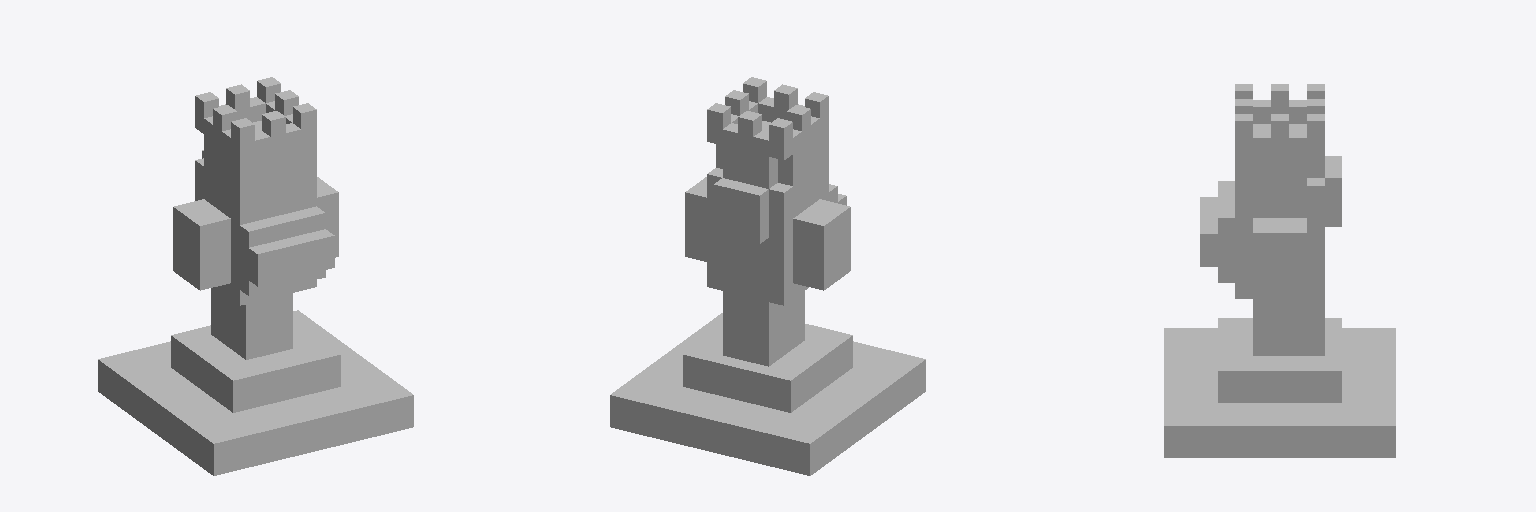
The model's file is queen.obj.
The picture shows the model from 3 angles: view 1: azimuth 30°, elevation 25°; view 2: azimuth 150°, elevation 25°; view 3: azimuth 270°, elevation 25°; orthographic projection.
Parts seen in each view (by area): view 1: queen; view 2: queen; view 3: queen.
Part boxes in pixels (left/top/right/bottom): queen: left=98, top=77, right=413, bottom=475; queen: left=610, top=77, right=925, bottom=475; queen: left=1164, top=84, right=1395, bottom=457.
Bounding box in the file's own units: 13 × 19 × 13.